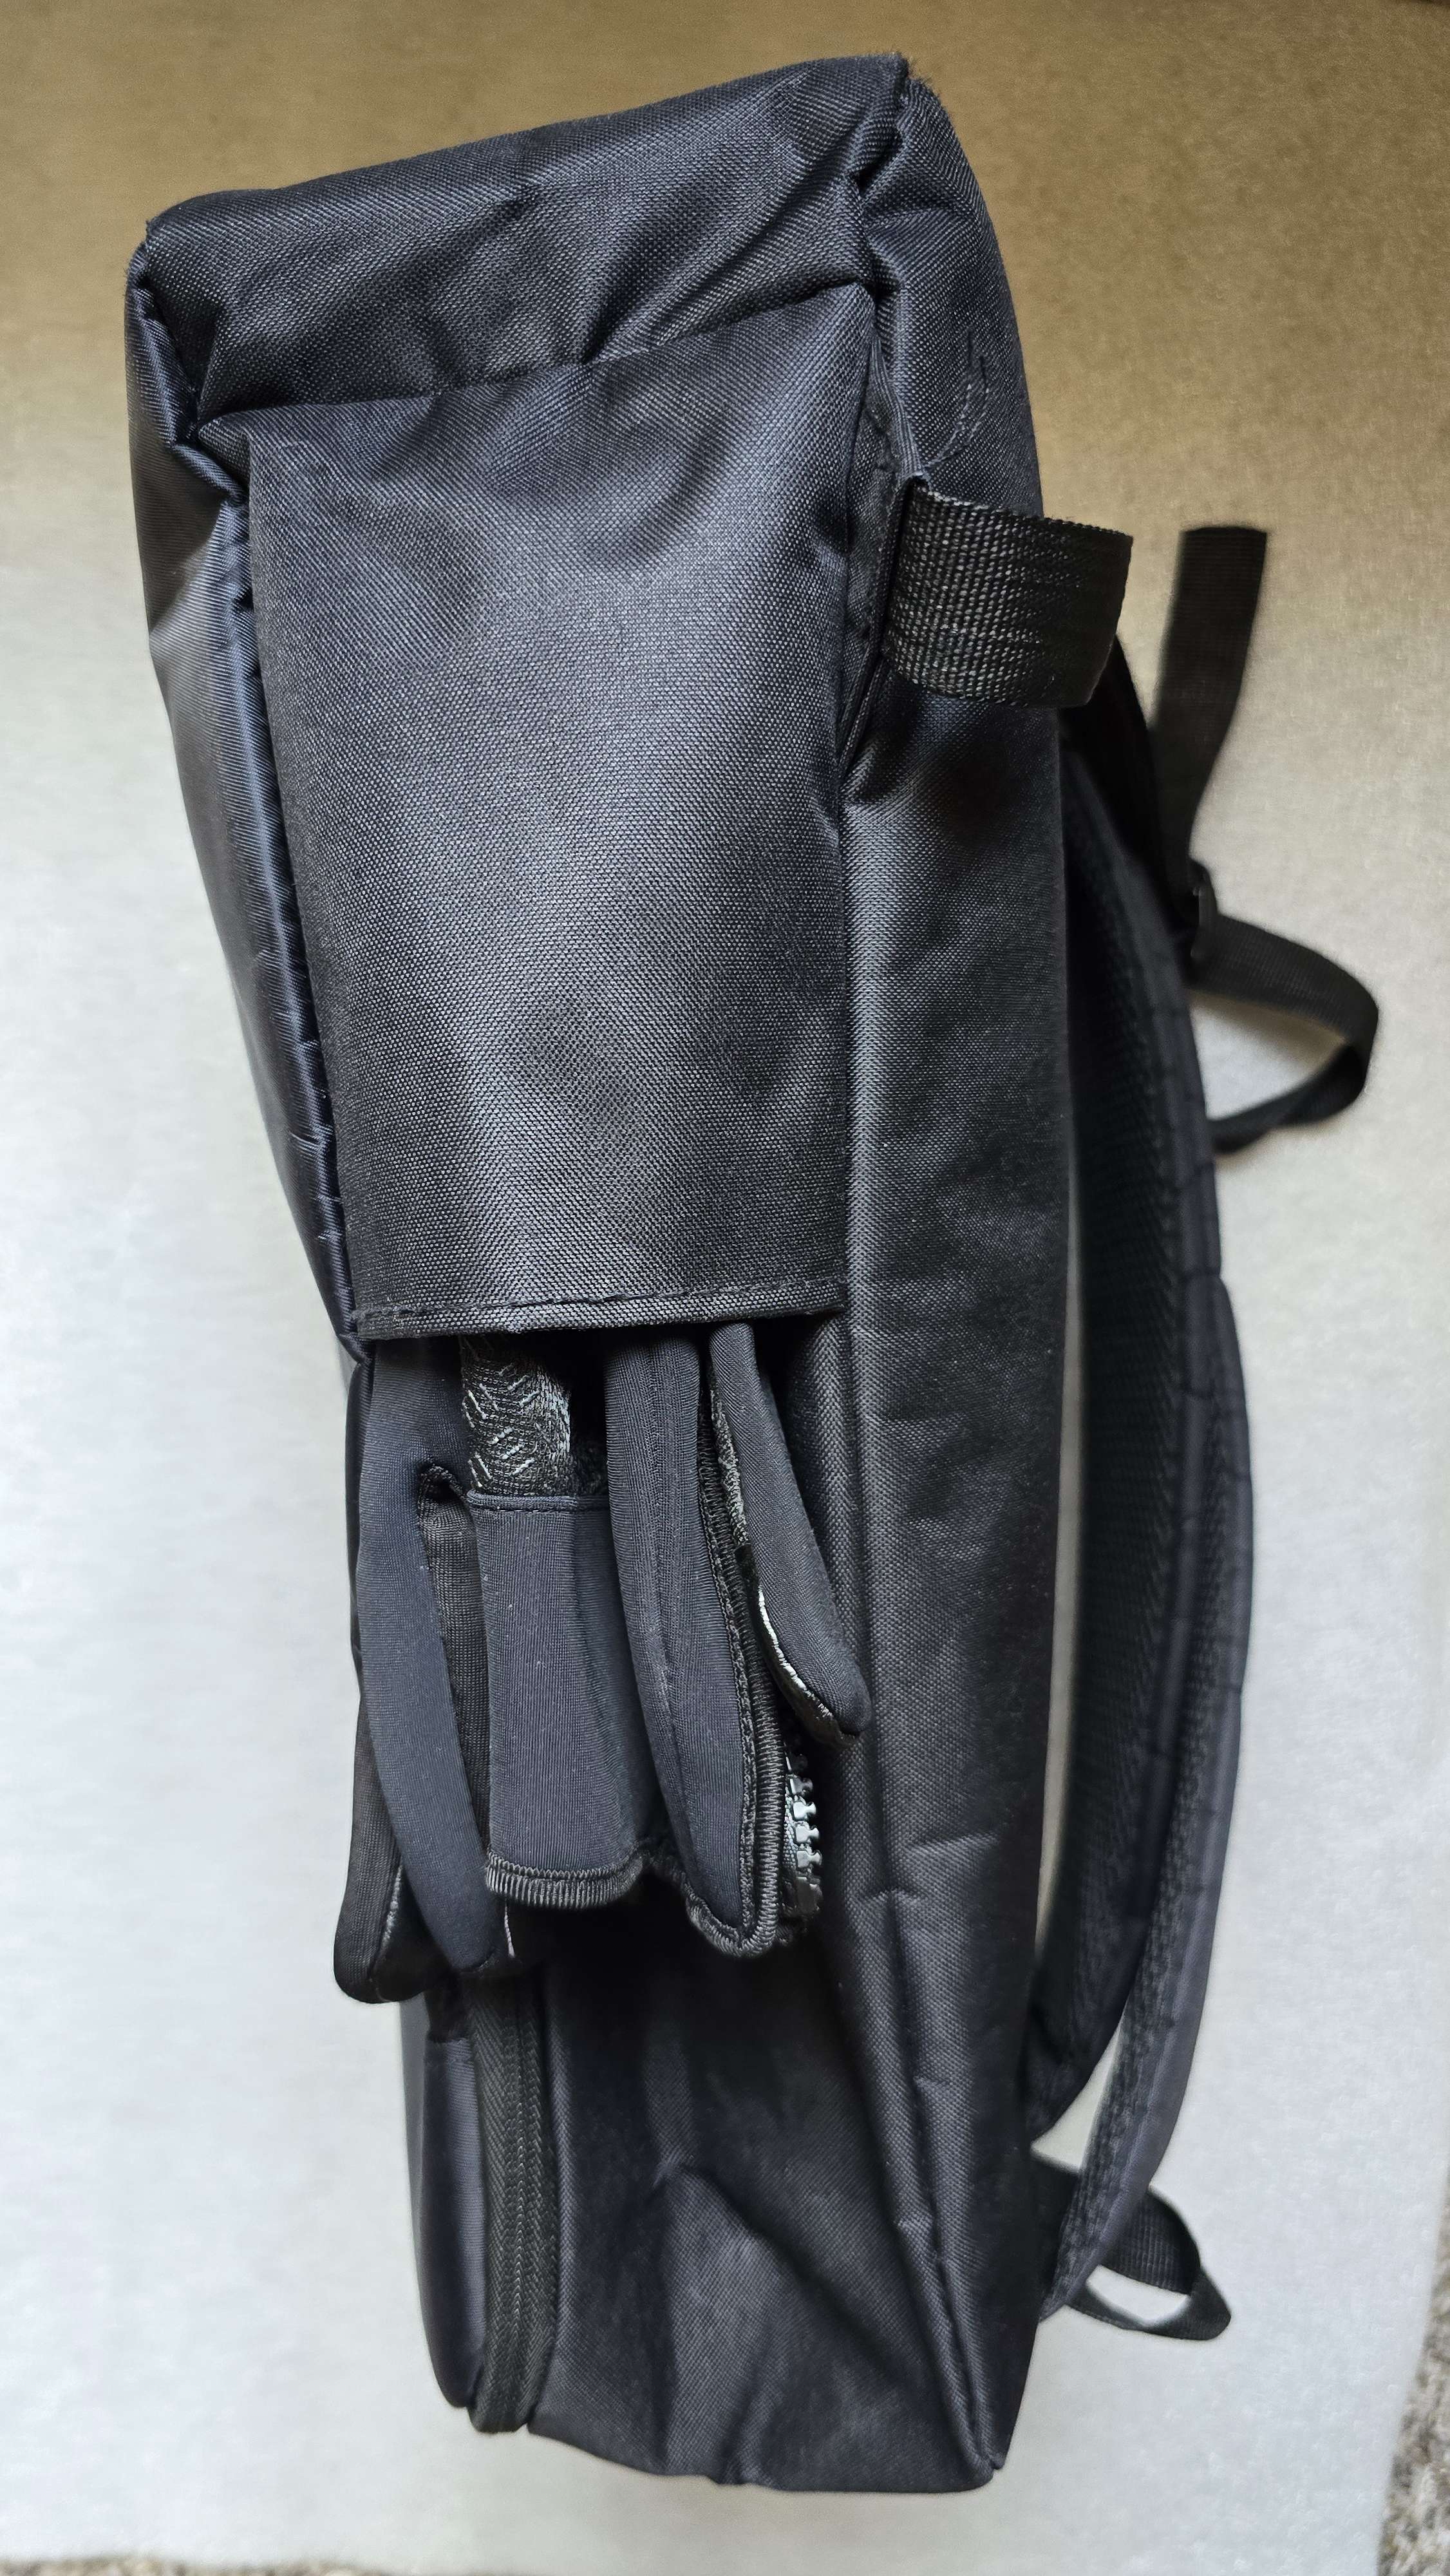bag: (74, 147, 1356, 2495)
